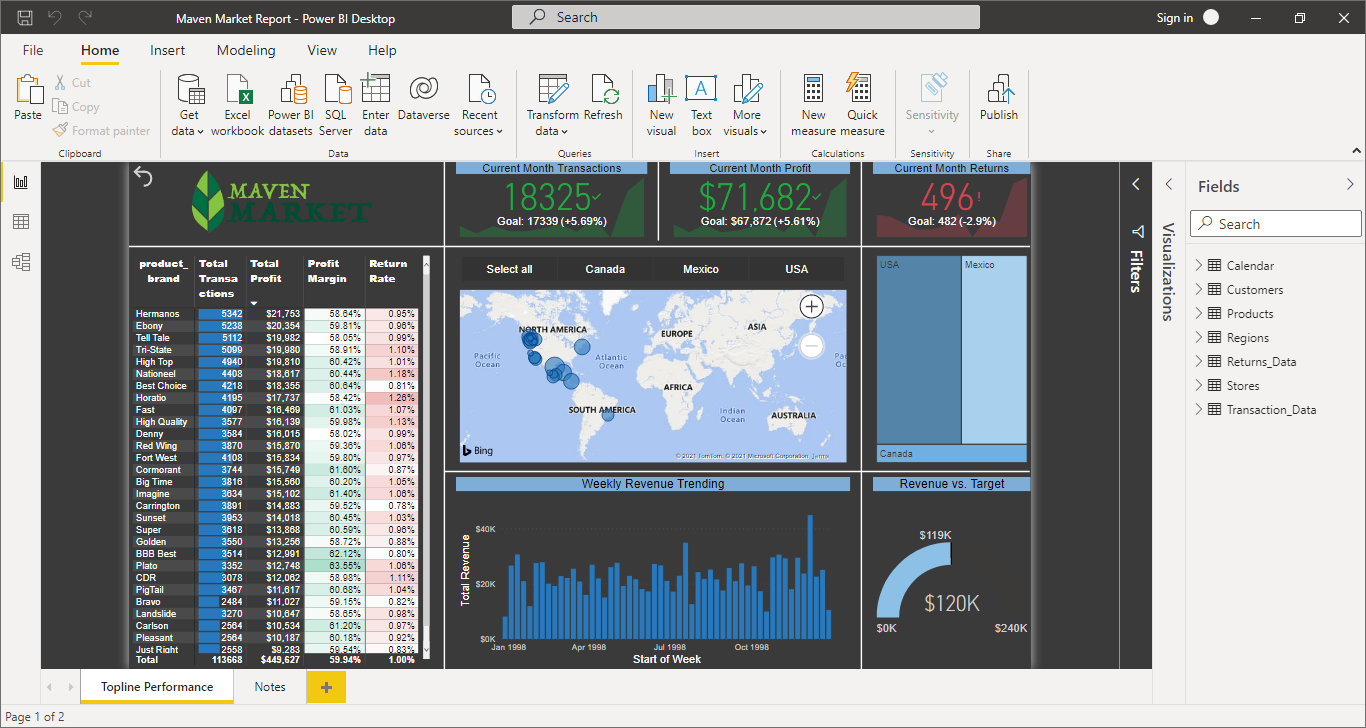

The page's visual inventory and layout, read from the dashboard file:
{"tool":"powerbi","page":{"name":"Topline Performance","canvas":[1280,720],"ordinal":0},"visuals":[{"type":"shape","box":[0,0,1280,240],"z":0},{"type":"shape","box":[608,0,288,112],"z":1000},{"type":"shape","box":[896,0,288,720],"z":2000},{"type":"shape","box":[304,0,288,720],"z":3000},{"type":"image","box":[0,0,432,112],"z":4000},{"type":"pivotTable","fields":{"Rows":["Products.product_brand"],"Values":["Transaction_Data.Total Transactions","Transaction_Data.Total Profit","Transaction_Data.Profit Margin","Returns_Data.Return Rate"]},"box":[0,128,432,592],"z":5000},{"type":"kpi","title":"Current Month Profit","fields":{"TrendLine":["Calendar.Start of Month"],"Goal":["Transaction_Data.Last Month Profit"],"Indicator":["Transaction_Data.Total Profit"]},"box":[768,0,256,112],"z":6000},{"type":"kpi","title":"Current Month Returns","fields":{"TrendLine":["Calendar.Start of Month"],"Goal":["Returns_Data.Last Month Returns"],"Indicator":["Returns_Data.Total Returns"]},"box":[1056,0,224,112],"z":7000},{"type":"map","fields":{"Category":["Stores.store_city"],"Size":["Transaction_Data.Total Transactions"]},"box":[464,176,560,256],"z":8000},{"type":"slicer","fields":{"Values":["Stores.store_country"]},"box":[448,128,592,48],"z":9000},{"type":"treemap","fields":{"Group":["Stores.store_country","Stores.store_state","Stores.store_city"],"Values":["Transaction_Data.Total Transactions"]},"box":[1056,128,224,304],"z":10000},{"type":"columnChart","title":"Weekly Revenue Trending","fields":{"Y":["Transaction_Data.Total Revenue"],"Category":["Calendar.Start of Week"]},"box":[464,448,560,272],"z":11000},{"type":"gauge","title":"Revenue vs. Target","fields":{"Y":["Transaction_Data.Total Revenue"],"TargetValue":["Transaction_Data.Revenue Target"]},"box":[1056,448,224,272],"z":12000},{"type":"actionButton","box":[0,0,100,40],"z":13000},{"type":"shape","box":[448,320,832,240],"z":14000},{"type":"kpi","title":"Current Month Transactions","fields":{"TrendLine":["Calendar.Start of Month"],"Indicator":["Transaction_Data.Total Transactions"],"Goal":["Transaction_Data.Last Month Transactions"]},"box":[464,0,272,112],"z":15000}]}

Visuals, with their boxes on the page's 1280x720 design canvas (x1, y1, x2, y2). These are canvas units, not pixel positions in the 1366x728 screenshot, which may show the page scaled, cropped or inside an application window:
shape: detection(0, 0, 1280, 240)
shape: detection(608, 0, 896, 112)
shape: detection(896, 0, 1184, 720)
shape: detection(304, 0, 592, 720)
image: detection(0, 0, 432, 112)
pivotTable - Products.product_brand x Transaction_Data.Total Transactions: detection(0, 128, 432, 720)
"Current Month Profit" kpi: detection(768, 0, 1024, 112)
"Current Month Returns" kpi: detection(1056, 0, 1280, 112)
map - Stores.store_city x Transaction_Data.Total Transactions: detection(464, 176, 1024, 432)
slicer - Stores.store_country: detection(448, 128, 1040, 176)
treemap - Stores.store_country x Stores.store_state: detection(1056, 128, 1280, 432)
"Weekly Revenue Trending" columnChart: detection(464, 448, 1024, 720)
"Revenue vs. Target" gauge: detection(1056, 448, 1280, 720)
actionButton: detection(0, 0, 100, 40)
shape: detection(448, 320, 1280, 560)
"Current Month Transactions" kpi: detection(464, 0, 736, 112)
